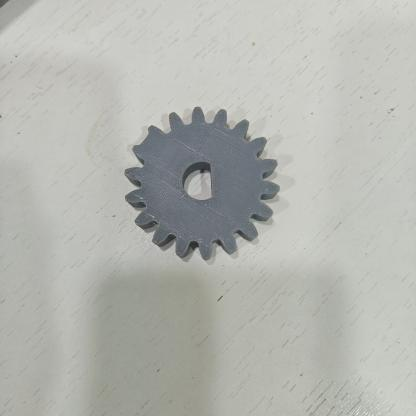defect: (127, 121, 170, 166), (194, 158, 229, 209)
gear: (108, 97, 294, 276)
